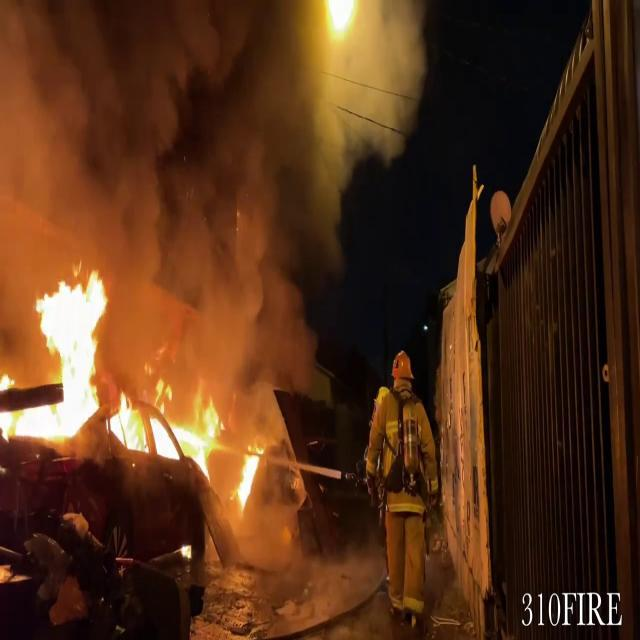Fire: (0, 262, 262, 501), (232, 442, 266, 512)
Smoke: (0, 0, 358, 355)
